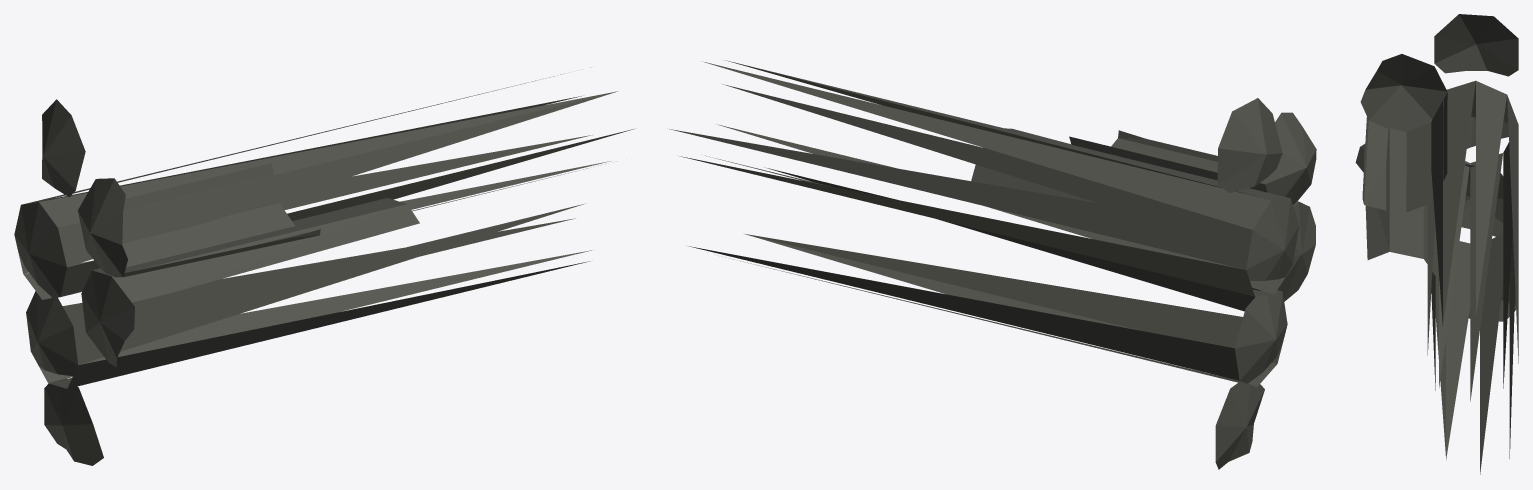
3 views of the same model, side by side, from view 1: azimuth 30°, elevation 25°; view 2: azimuth 150°, elevation 25°; view 3: azimuth 270°, elevation 25° (orthographic). The views are drawn at different scales.
Bounding box in the file's own units: 1.67 × 1.02 × 0.4869.
